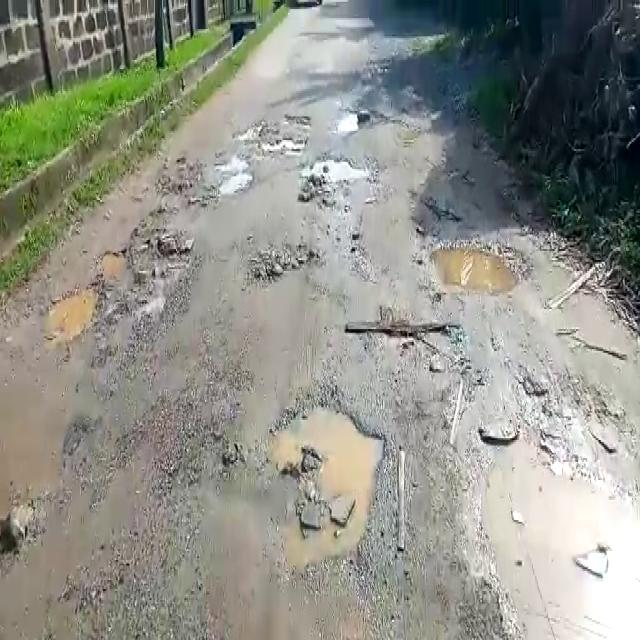Pothole: (476, 440, 640, 640), (270, 398, 387, 585), (102, 217, 195, 300), (426, 233, 533, 295), (290, 158, 375, 206), (43, 282, 99, 342), (209, 161, 255, 197)
